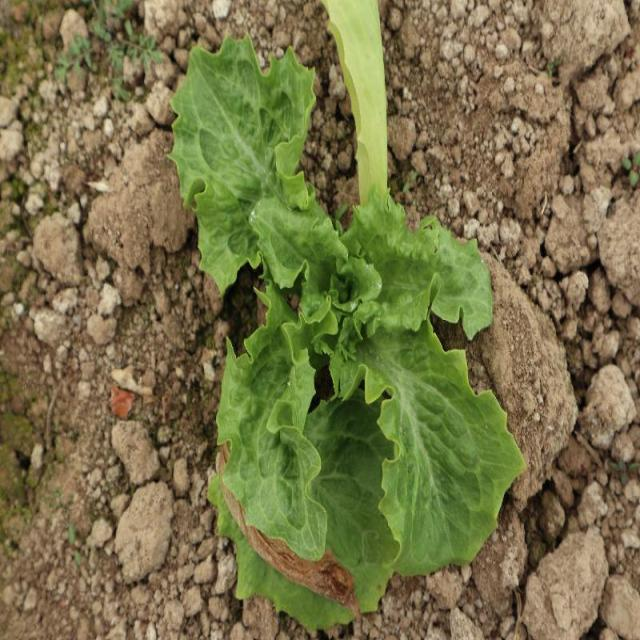crop: (168, 25, 528, 634)
